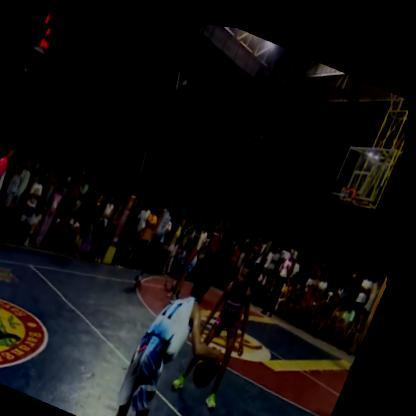basketball: (195, 337, 235, 390)
rim: (333, 166, 366, 216)
